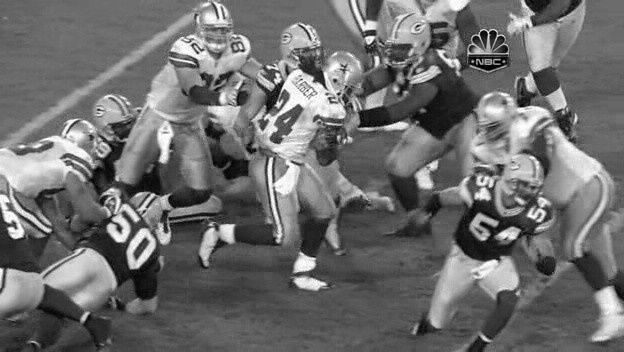person: (329, 53, 363, 97), (328, 53, 362, 97), (330, 53, 364, 97), (329, 52, 363, 96), (329, 54, 363, 98)
target_negative: (124, 45, 361, 150), (480, 117, 606, 258), (432, 170, 521, 320), (529, 7, 568, 221), (344, 299, 396, 340), (113, 71, 143, 80)
